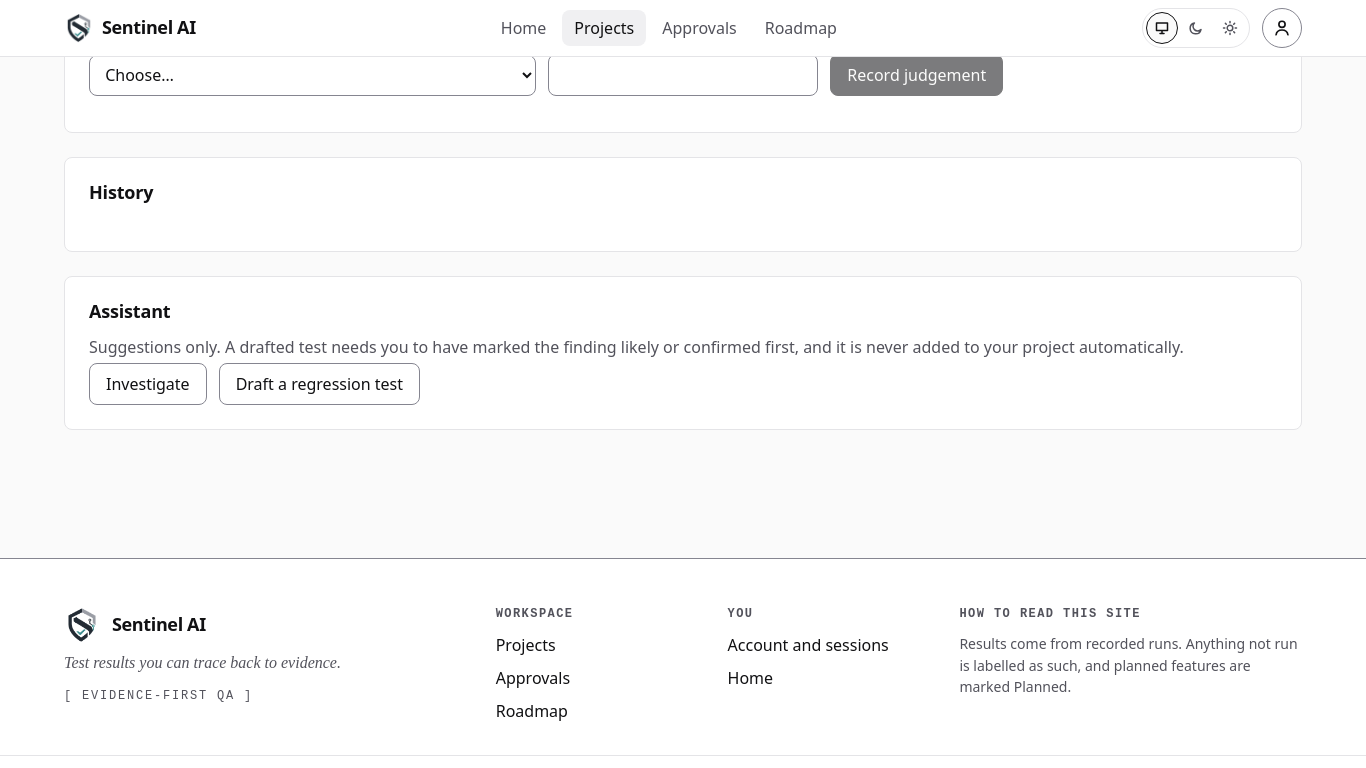
Test: finding assistant actions › starts an investigation for the finding and opens the result
(page scrolled)
Click the button "Investigate": (148,384) x1=89 y1=364 x2=207 y2=405
(page scrolled)
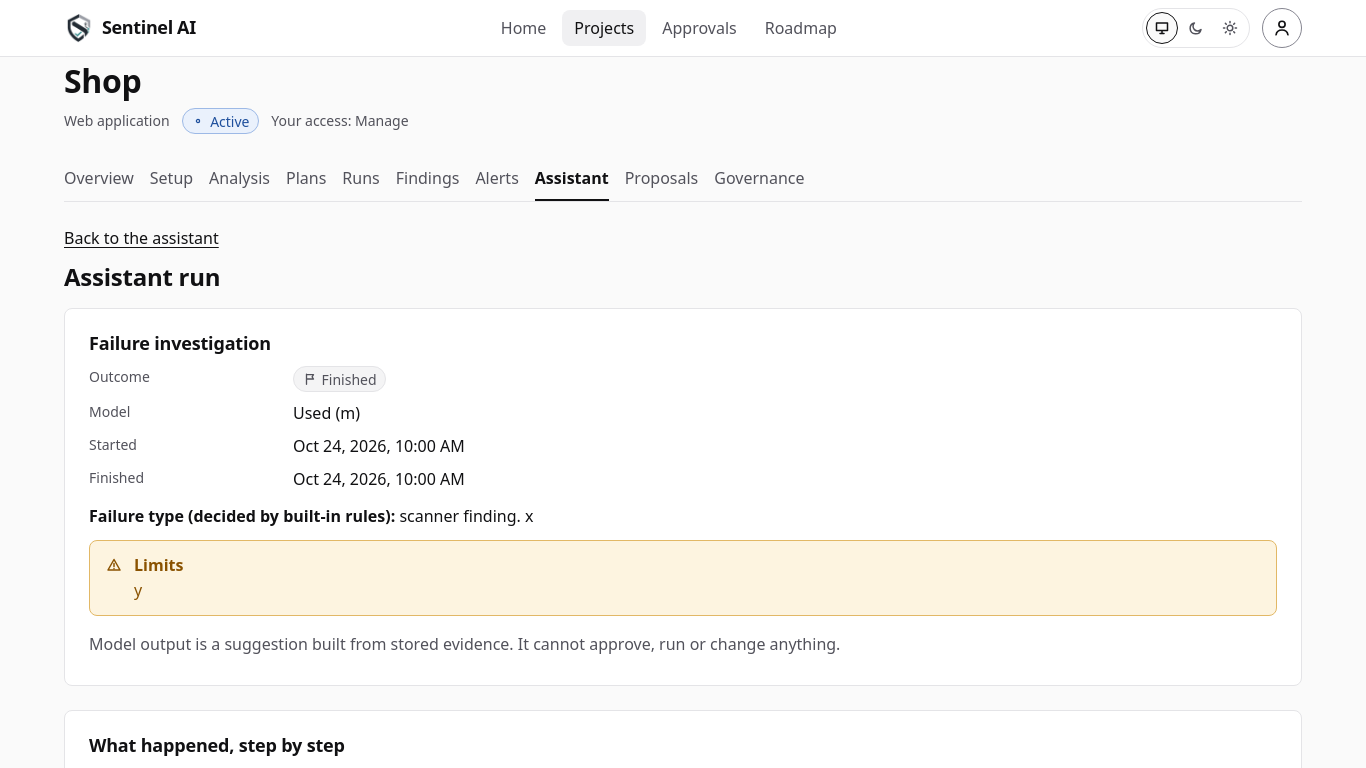
Now the text "Failure type (decided by built-in rules): scanner finding. x" is shown, box x1=89 y1=504 x2=533 y2=526
